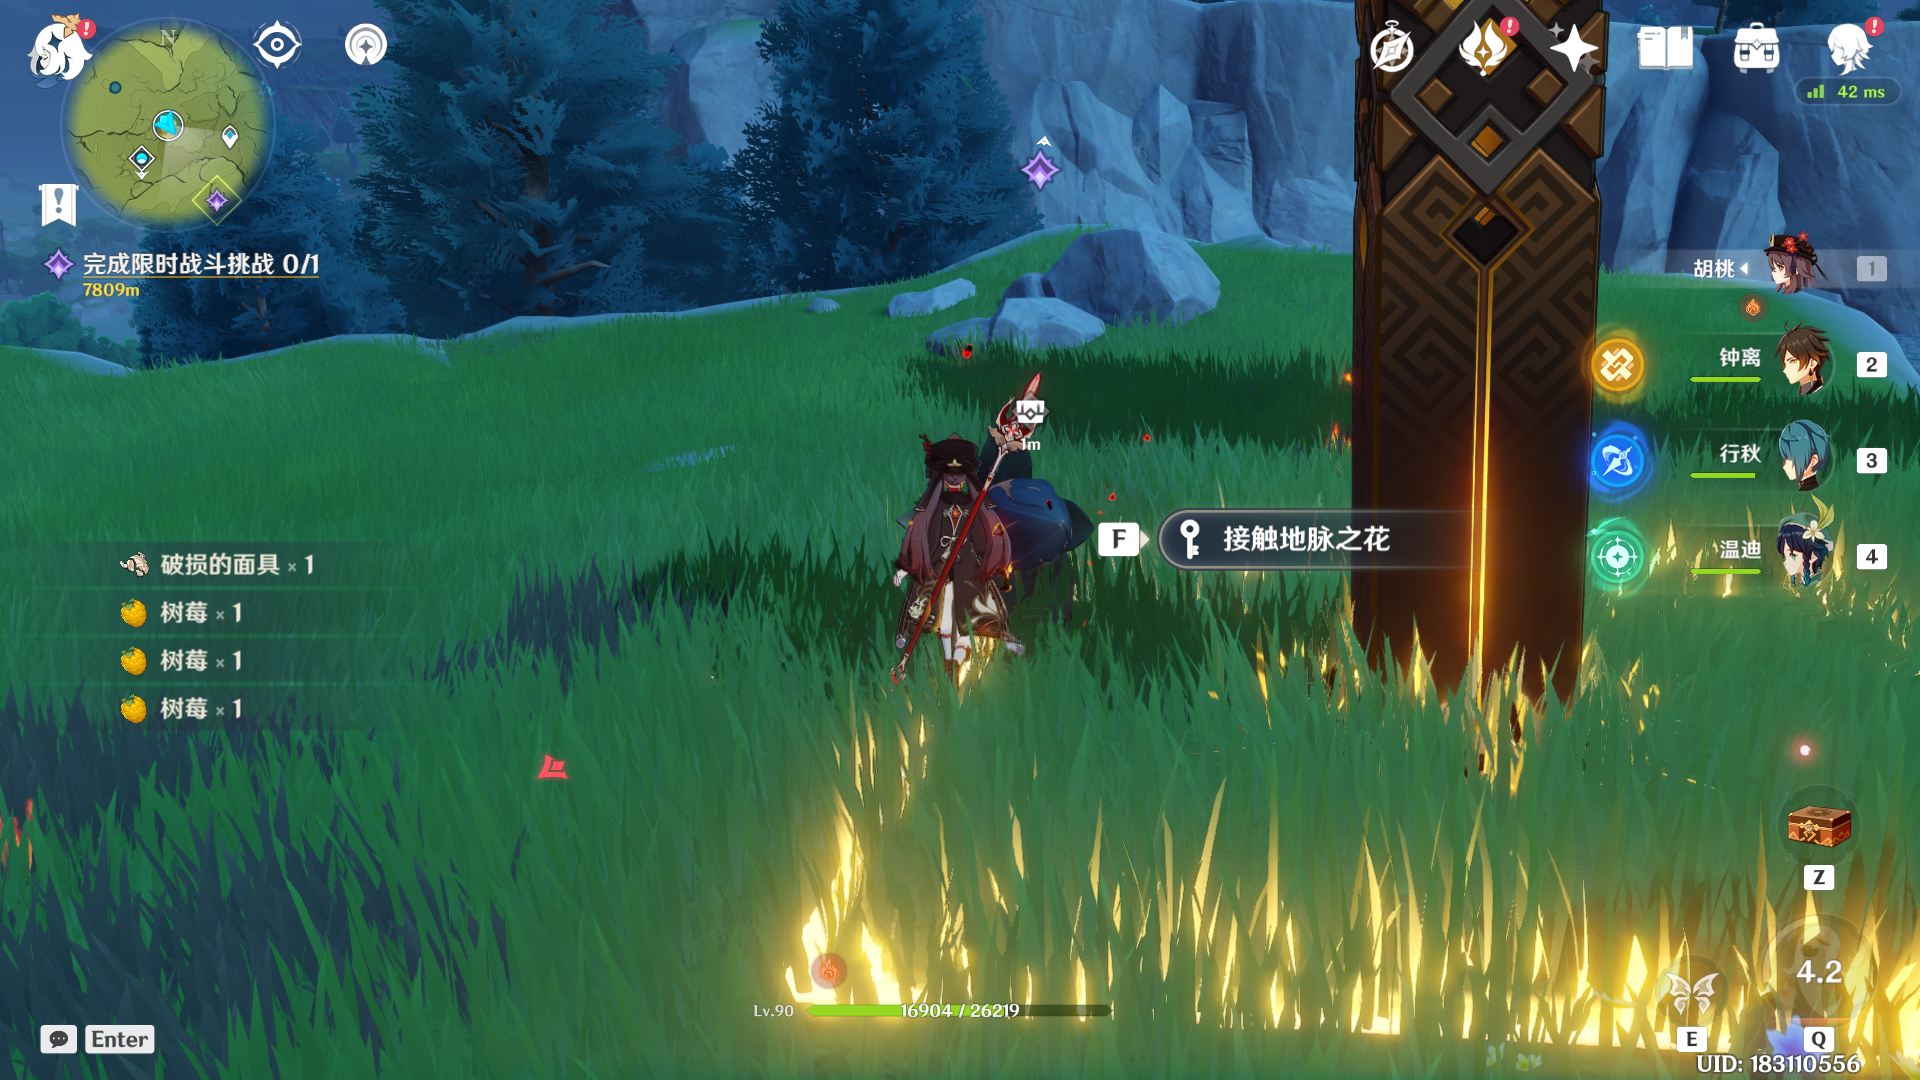character: (823, 394, 1044, 699)
